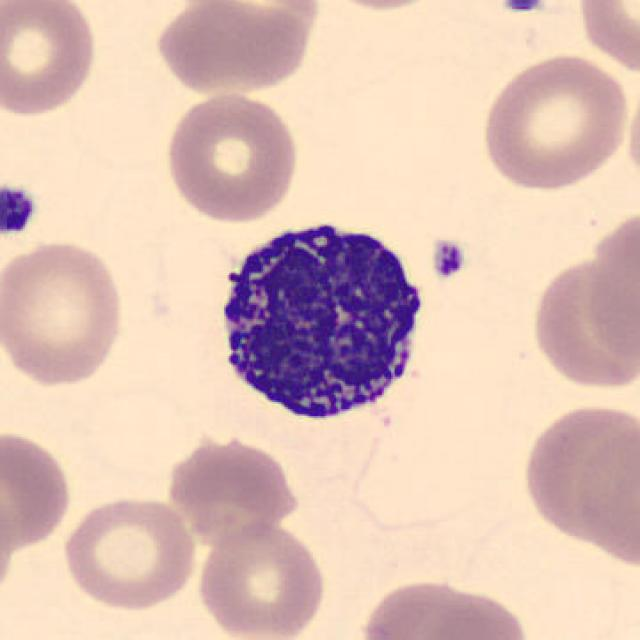Basophil: (205, 201, 438, 432)
Platelets: (0, 182, 39, 238), (427, 236, 468, 284), (498, 0, 549, 16)
RBC: (462, 506, 635, 640), (476, 49, 633, 194), (160, 86, 302, 226), (0, 236, 128, 390), (515, 397, 640, 552), (59, 492, 199, 612), (150, 0, 323, 97), (160, 428, 302, 546), (194, 518, 329, 640), (526, 251, 636, 394), (0, 0, 101, 120), (357, 575, 523, 640), (582, 199, 638, 386), (572, 419, 638, 576), (0, 426, 75, 554), (572, 0, 640, 78), (304, 0, 453, 14), (624, 71, 640, 199)
